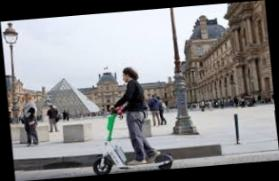nonhelmet: (83, 63, 176, 175)
